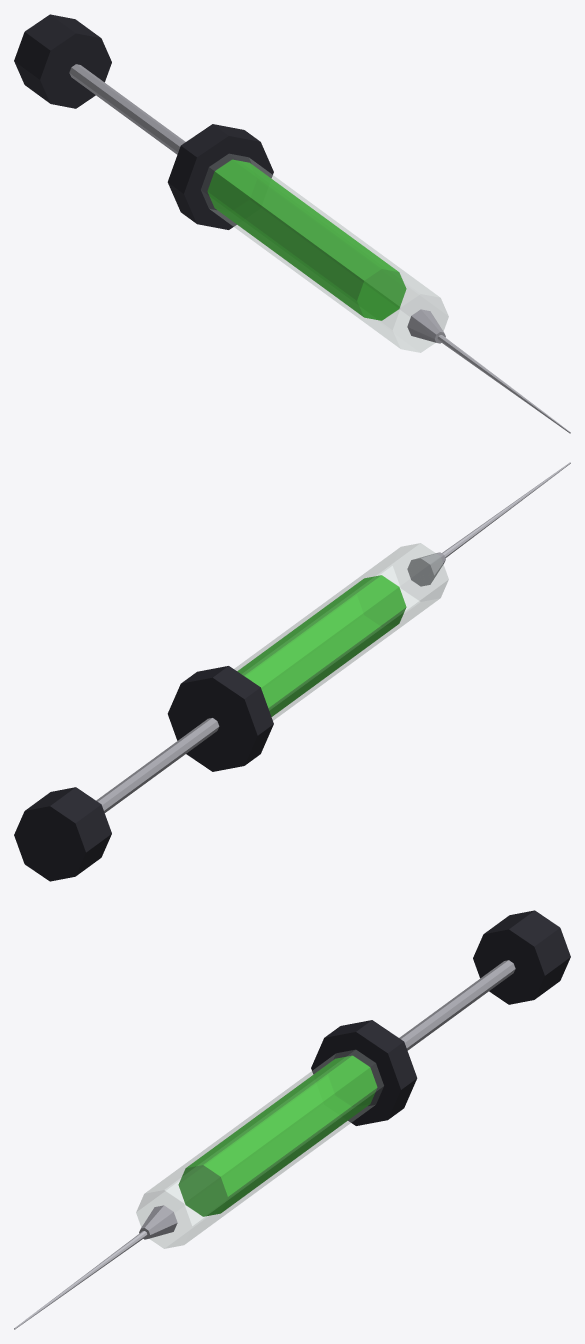
File: syringe.obj
3 views of the same model, one above another, from view 1: azimuth 30°, elevation 25°; view 2: azimuth 150°, elevation 25°; view 3: azimuth 330°, elevation 25° (orthographic).
Visible parts, largest first — view 1: Glass_Barrel, Poison_Liquid, Plunger_Handle, Finger_Flange, Plunger_Rod, Needle_Hub, Needle; view 2: Glass_Barrel, Poison_Liquid, Finger_Flange, Plunger_Handle, Plunger_Rod, Needle_Hub, Needle; view 3: Glass_Barrel, Poison_Liquid, Plunger_Handle, Finger_Flange, Plunger_Rod, Needle_Hub, Needle.
Boxes of the visible parts, <box> form: Glass_Barrel: <box>201,154,448,352</box>; Poison_Liquid: <box>207,159,406,320</box>; Plunger_Handle: <box>14,14,111,108</box>; Finger_Flange: <box>167,124,273,229</box>; Plunger_Rod: <box>69,64,185,154</box>; Needle_Hub: <box>407,309,445,343</box>; Needle: <box>437,335,570,433</box>; Glass_Barrel: <box>234,543,448,720</box>; Poison_Liquid: <box>237,575,406,716</box>; Finger_Flange: <box>167,666,273,771</box>; Plunger_Handle: <box>14,787,111,881</box>; Plunger_Rod: <box>96,718,219,812</box>; Needle_Hub: <box>407,552,445,586</box>; Needle: <box>442,462,570,558</box>; Glass_Barrel: <box>136,1050,383,1248</box>; Poison_Liquid: <box>178,1055,377,1216</box>; Plunger_Handle: <box>473,910,570,1004</box>; Finger_Flange: <box>311,1020,417,1125</box>; Plunger_Rod: <box>399,960,515,1050</box>; Needle_Hub: <box>139,1205,177,1239</box>; Needle: <box>14,1231,147,1329</box>.
Size of the model in its own units: 0.8 by 0.8 by 8.
